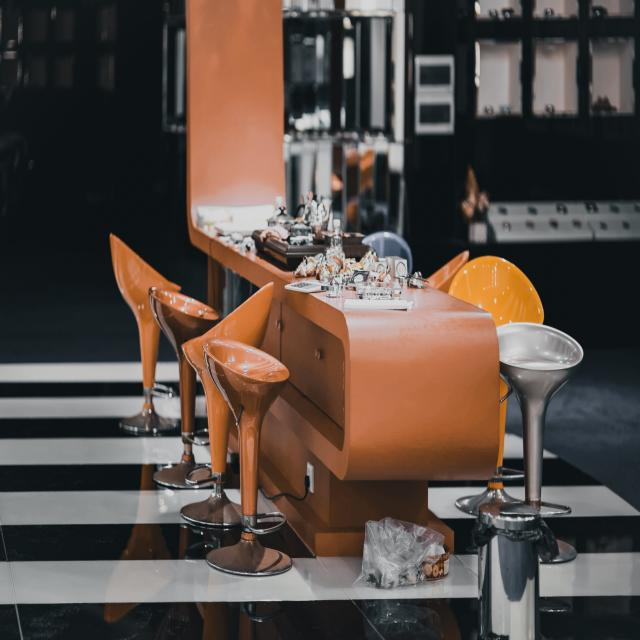plastic: (374, 534, 420, 584)
